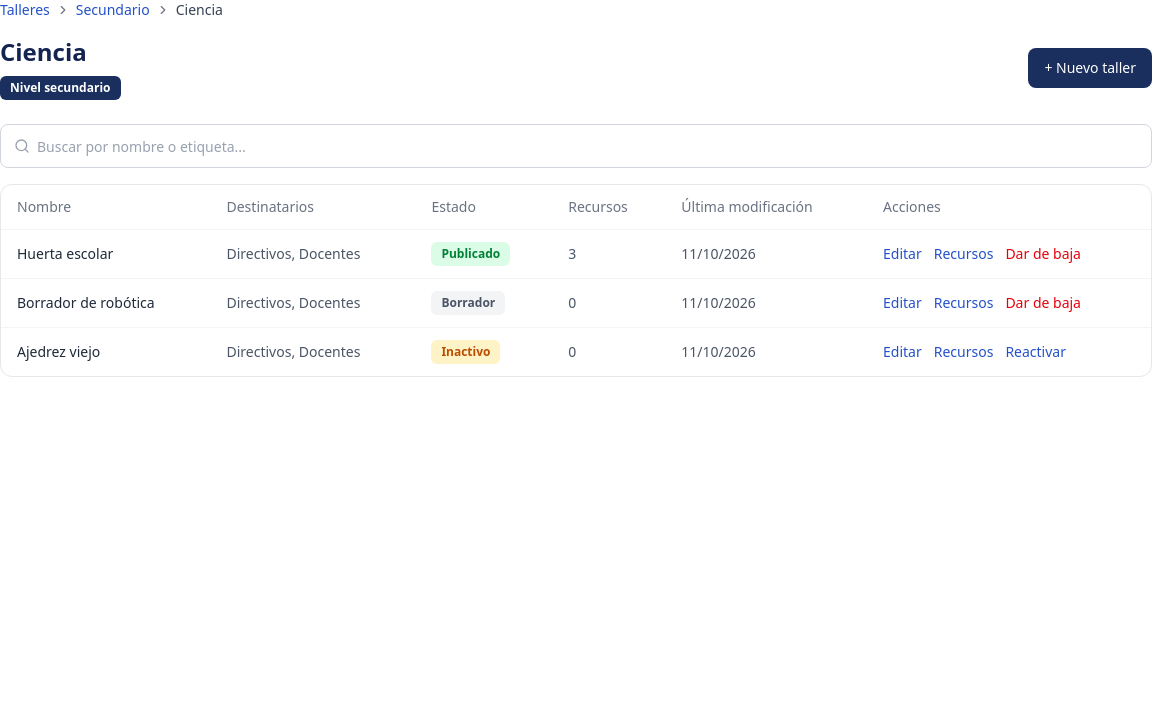
Test case: TalleresListPage: baja y reactivación › si la baja falla con otro error muestra un aviso genérico y el taller sigue publicado
Expected: the text "Huerta escolar" is shown, [1,230,210,278]
Click the button "Dar de baja" in the row of "Huerta escolar": (1043, 254) [1005,244,1081,264]
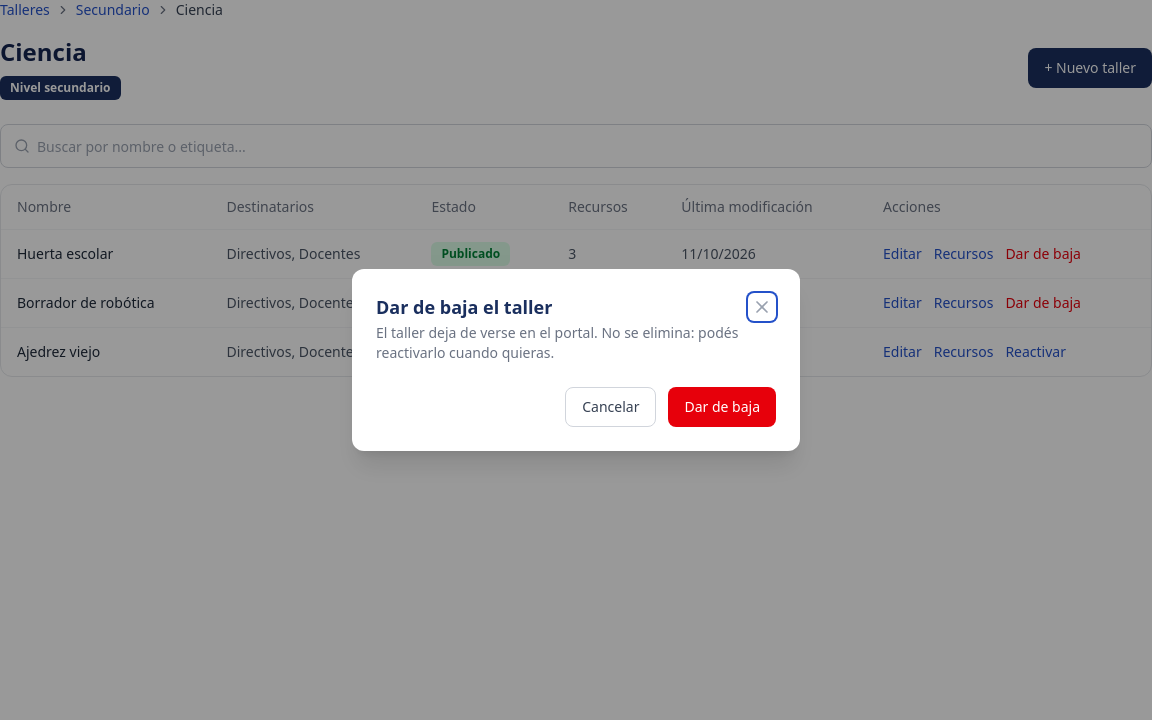
Click the button "Dar de baja": (722, 407) [668,387,776,427]
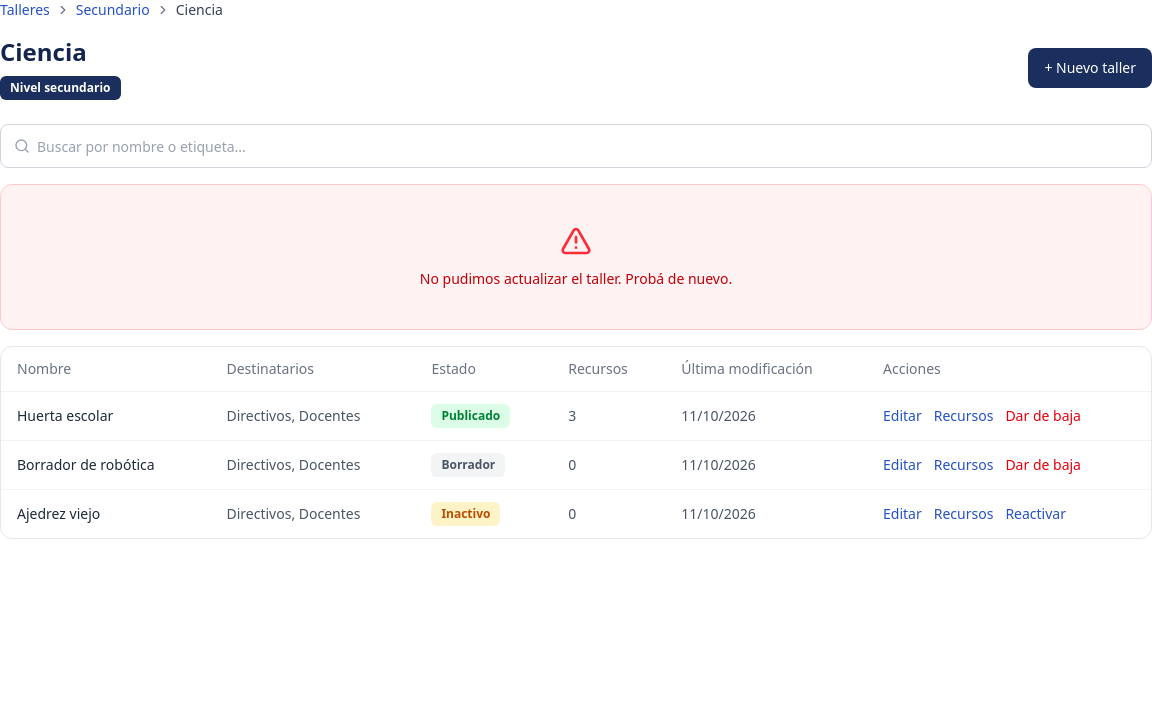
Expected: the message does not show "dada de baja", [0,184,1151,330]
Expected: the message shows "No pudimos", [420,269,732,288]
